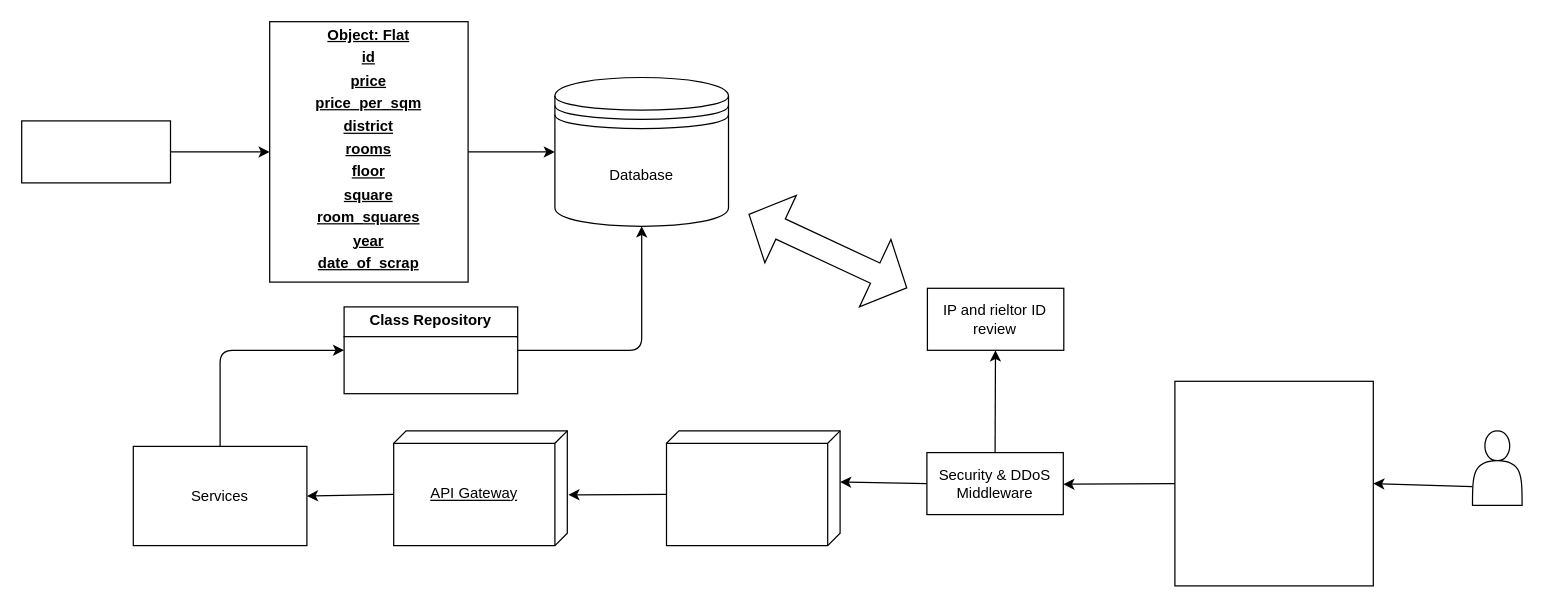
This 1544x608 diagram has some shape labels left out. The box of each missing label's shape, as (x1, y1, x2, y2) in pixels:
Authorization & Authentication Block: (665, 430, 840, 546)
Object:User id name surname email date_of_registration status: (1174, 380, 1373, 586)
Scraper: (20, 120, 170, 183)
